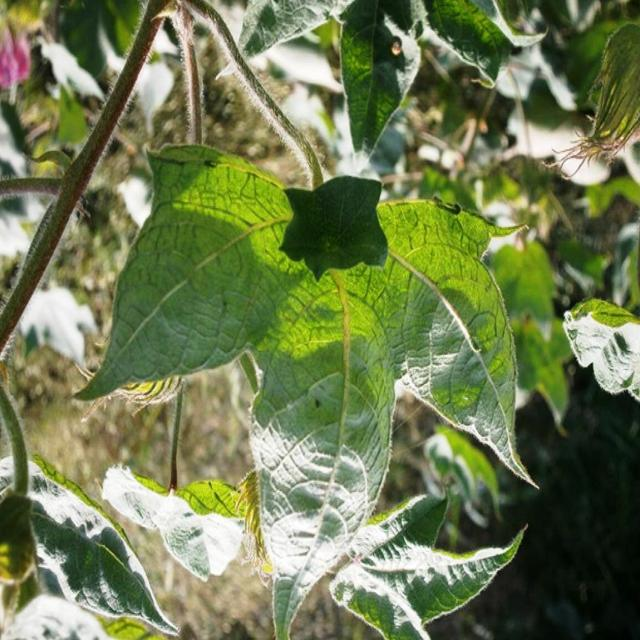Leaf Curl Virus: (195, 153, 469, 410)
